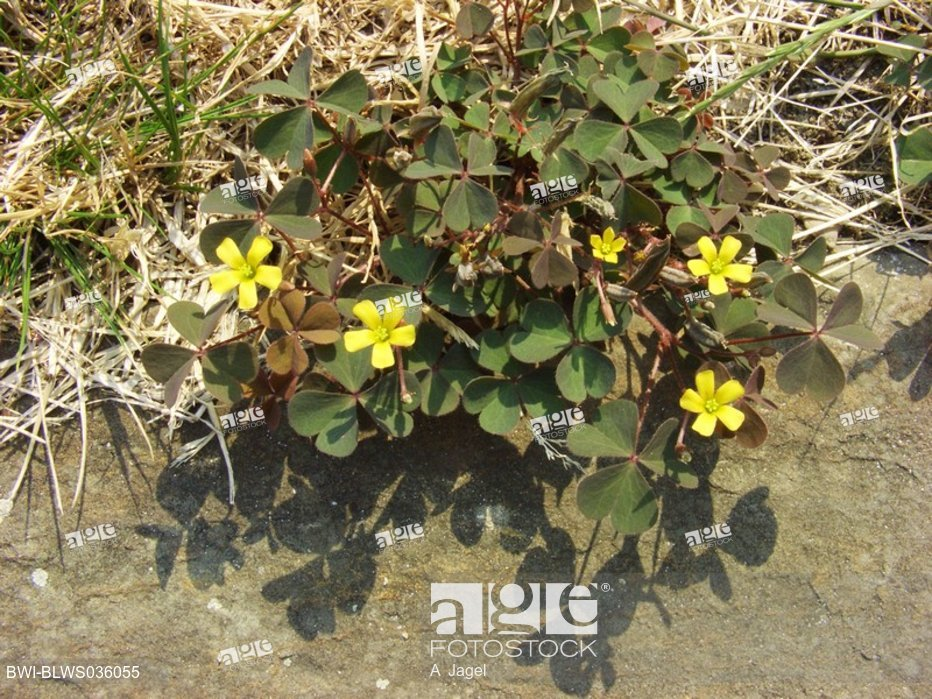oxalis: (141, 63, 832, 496)
